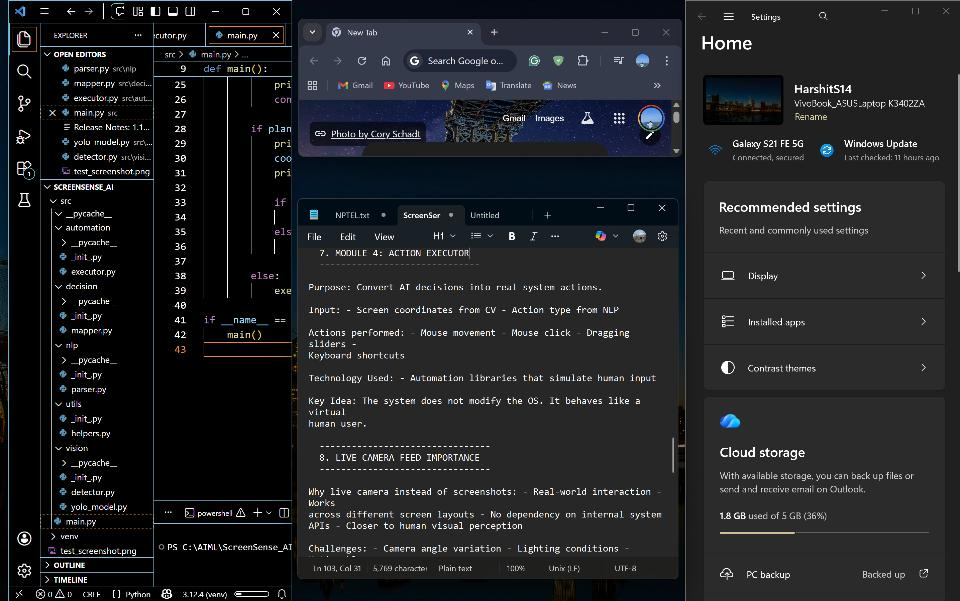close_button: (264, 2, 288, 19), (653, 24, 677, 41), (652, 201, 671, 218), (935, 4, 956, 16)
maximize_button: (236, 2, 256, 20), (622, 202, 643, 217), (627, 24, 644, 41), (905, 5, 927, 17)
minimize_button: (585, 200, 613, 217), (592, 22, 618, 40), (207, 2, 228, 19), (877, 5, 898, 17)
